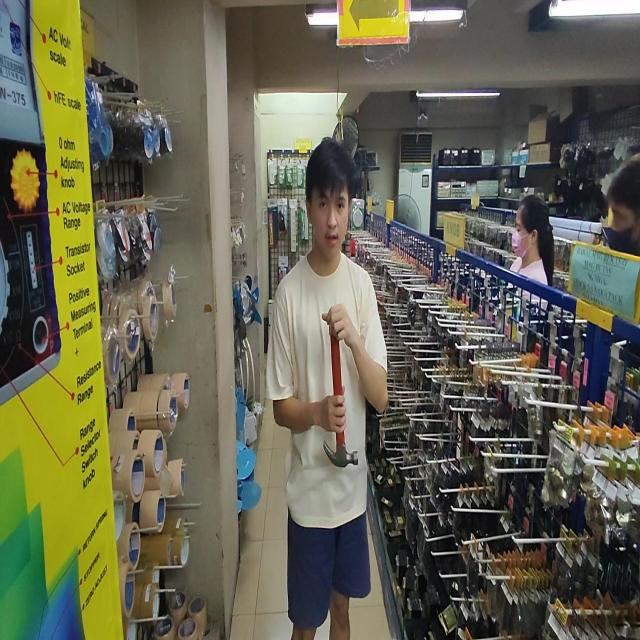hammer: (323, 325, 359, 468)
